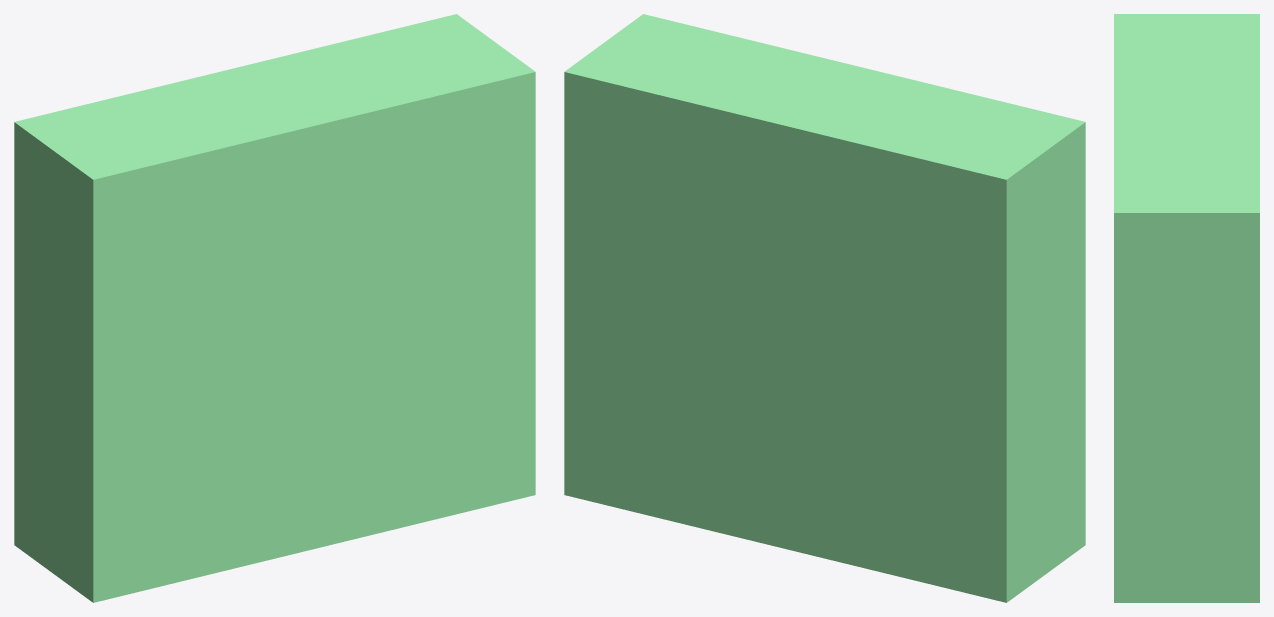
The model's file is HallWallVariation2.fbx.
3 views of the same model, side by side, from view 1: azimuth 30°, elevation 25°; view 2: azimuth 150°, elevation 25°; view 3: azimuth 270°, elevation 25° (orthographic). The views are drawn at different scales.
Parts seen in each view (by area): view 1: Wall; view 2: Wall; view 3: Wall.
Boxes of the visible parts, x1,y1,x2,y2 form: Wall: (14,14,535,602); Wall: (564,14,1085,602); Wall: (1114,14,1259,602).
Size of the model in its own units: 100 by 91.37 by 30.97.
